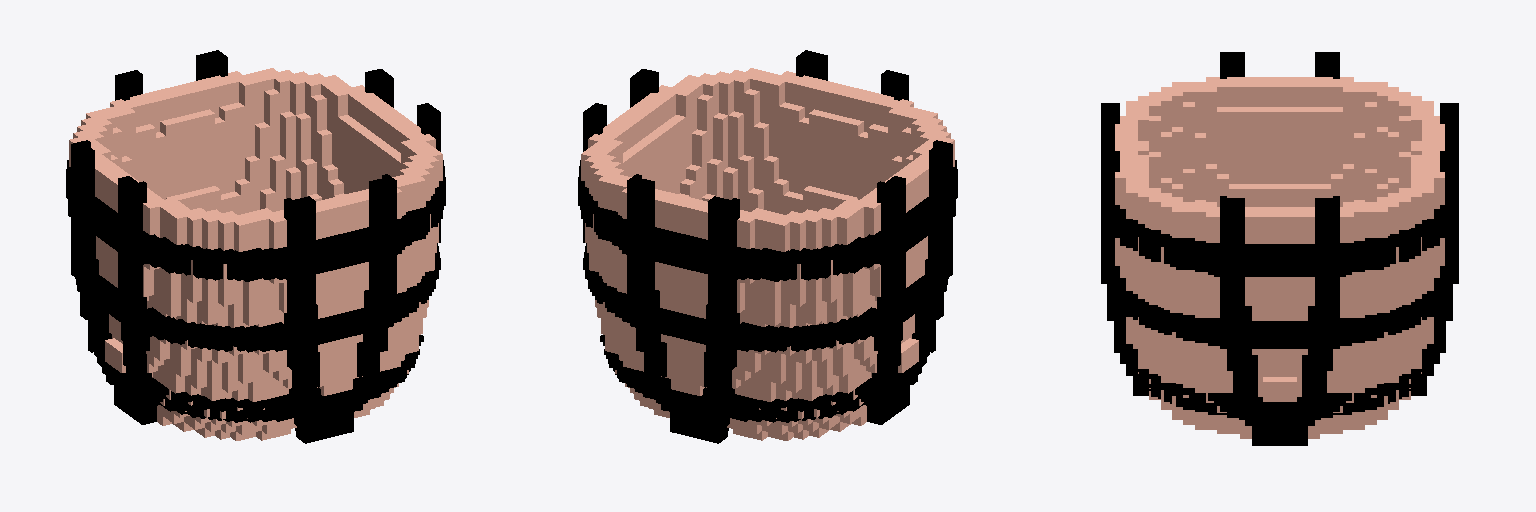
The model's file is BUCKET.obj.
The picture shows the model from 3 angles: view 1: azimuth 30°, elevation 25°; view 2: azimuth 150°, elevation 25°; view 3: azimuth 270°, elevation 25°; orthographic projection.
Visible parts, largest first — view 1: Cylinder, Cylinder.001; view 2: Cylinder, Cylinder.001; view 3: Cylinder, Cylinder.001.
Part boxes in pixels (left/top/right/bottom): Cylinder: left=69, top=68, right=442, bottom=440; Cylinder.001: left=66, top=50, right=445, bottom=443; Cylinder: left=581, top=68, right=954, bottom=440; Cylinder.001: left=578, top=50, right=957, bottom=443; Cylinder: left=1115, top=77, right=1444, bottom=438; Cylinder.001: left=1101, top=52, right=1458, bottom=445.
Size of the model in its own units: 2.79 by 2.2 by 2.79.